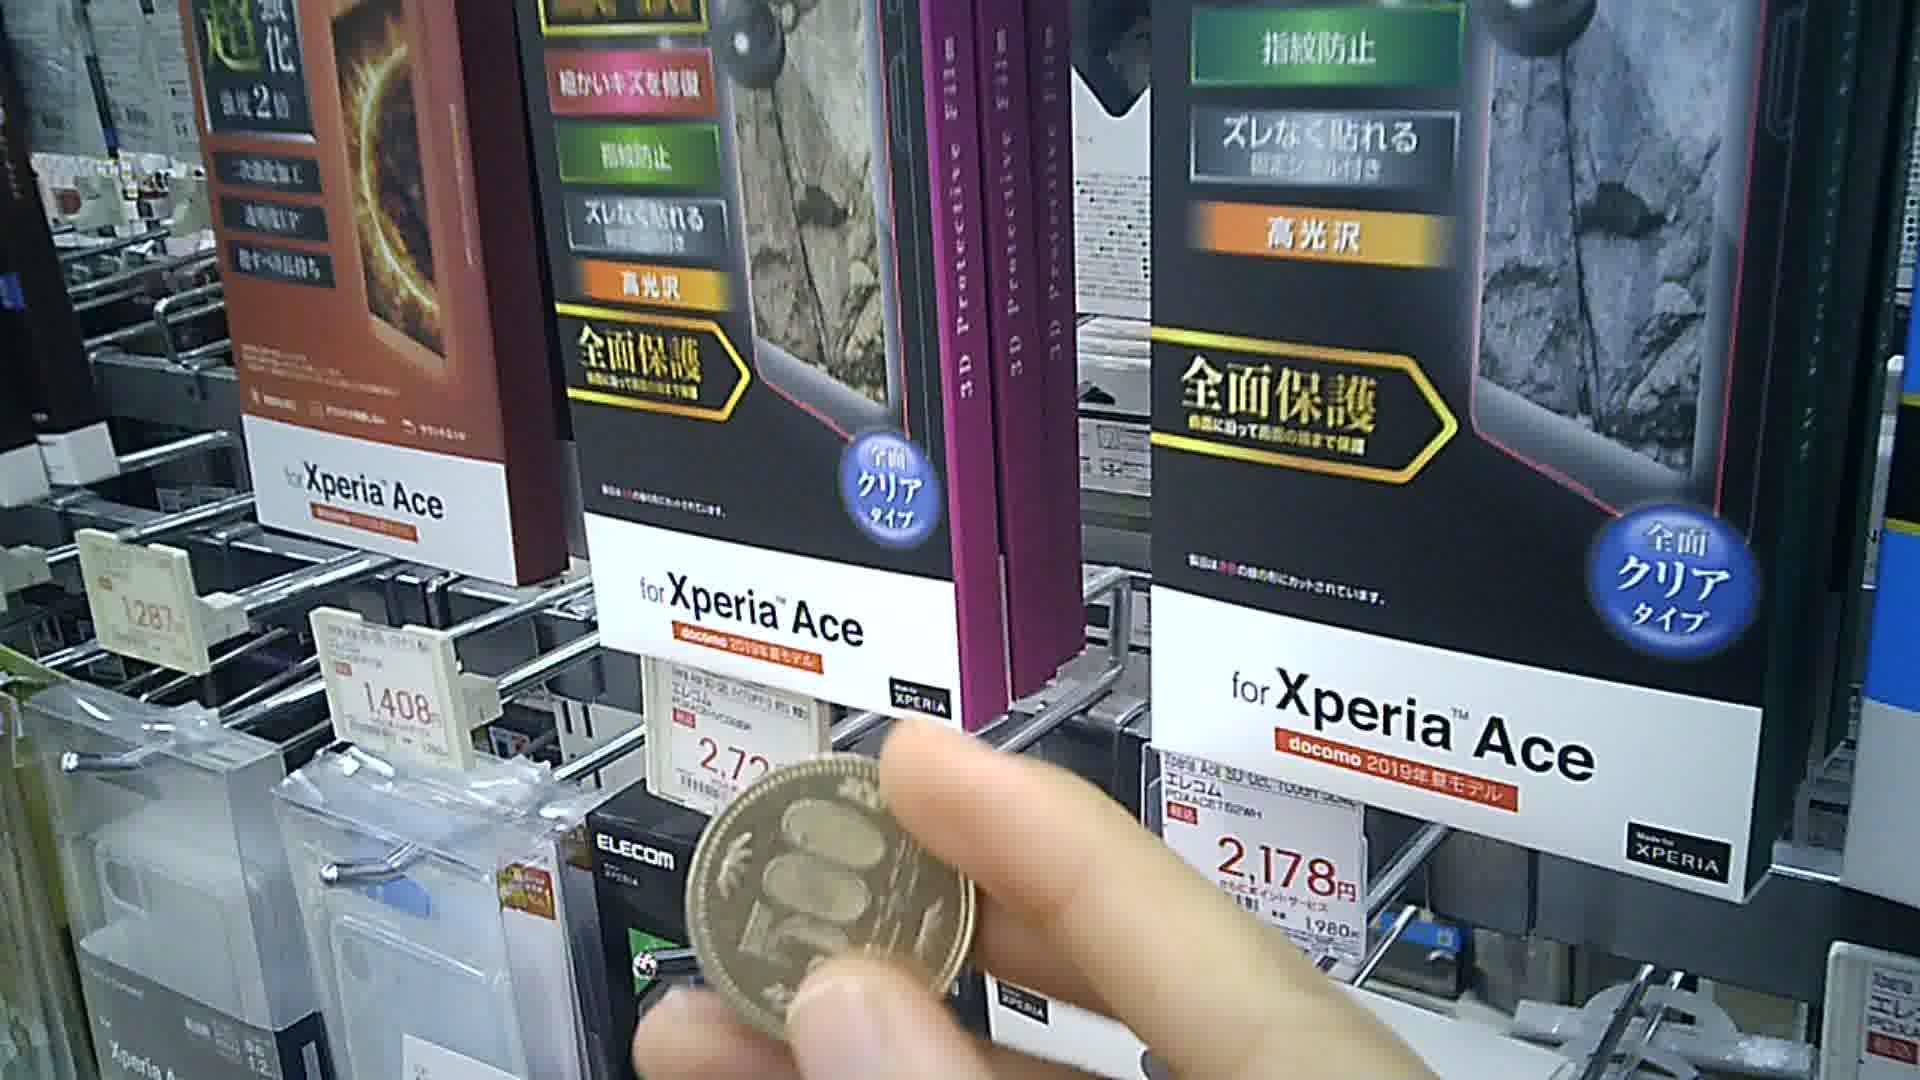500 Yen: (679, 756, 982, 1019)
